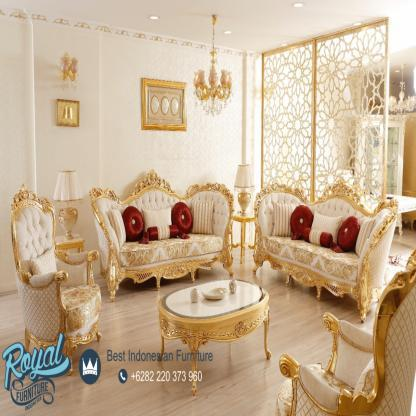lampu: (55, 171, 83, 235), (234, 163, 254, 213)
meja: (154, 282, 274, 379)
sova: (281, 259, 415, 416), (255, 185, 388, 311), (11, 190, 100, 360), (90, 178, 238, 276)
